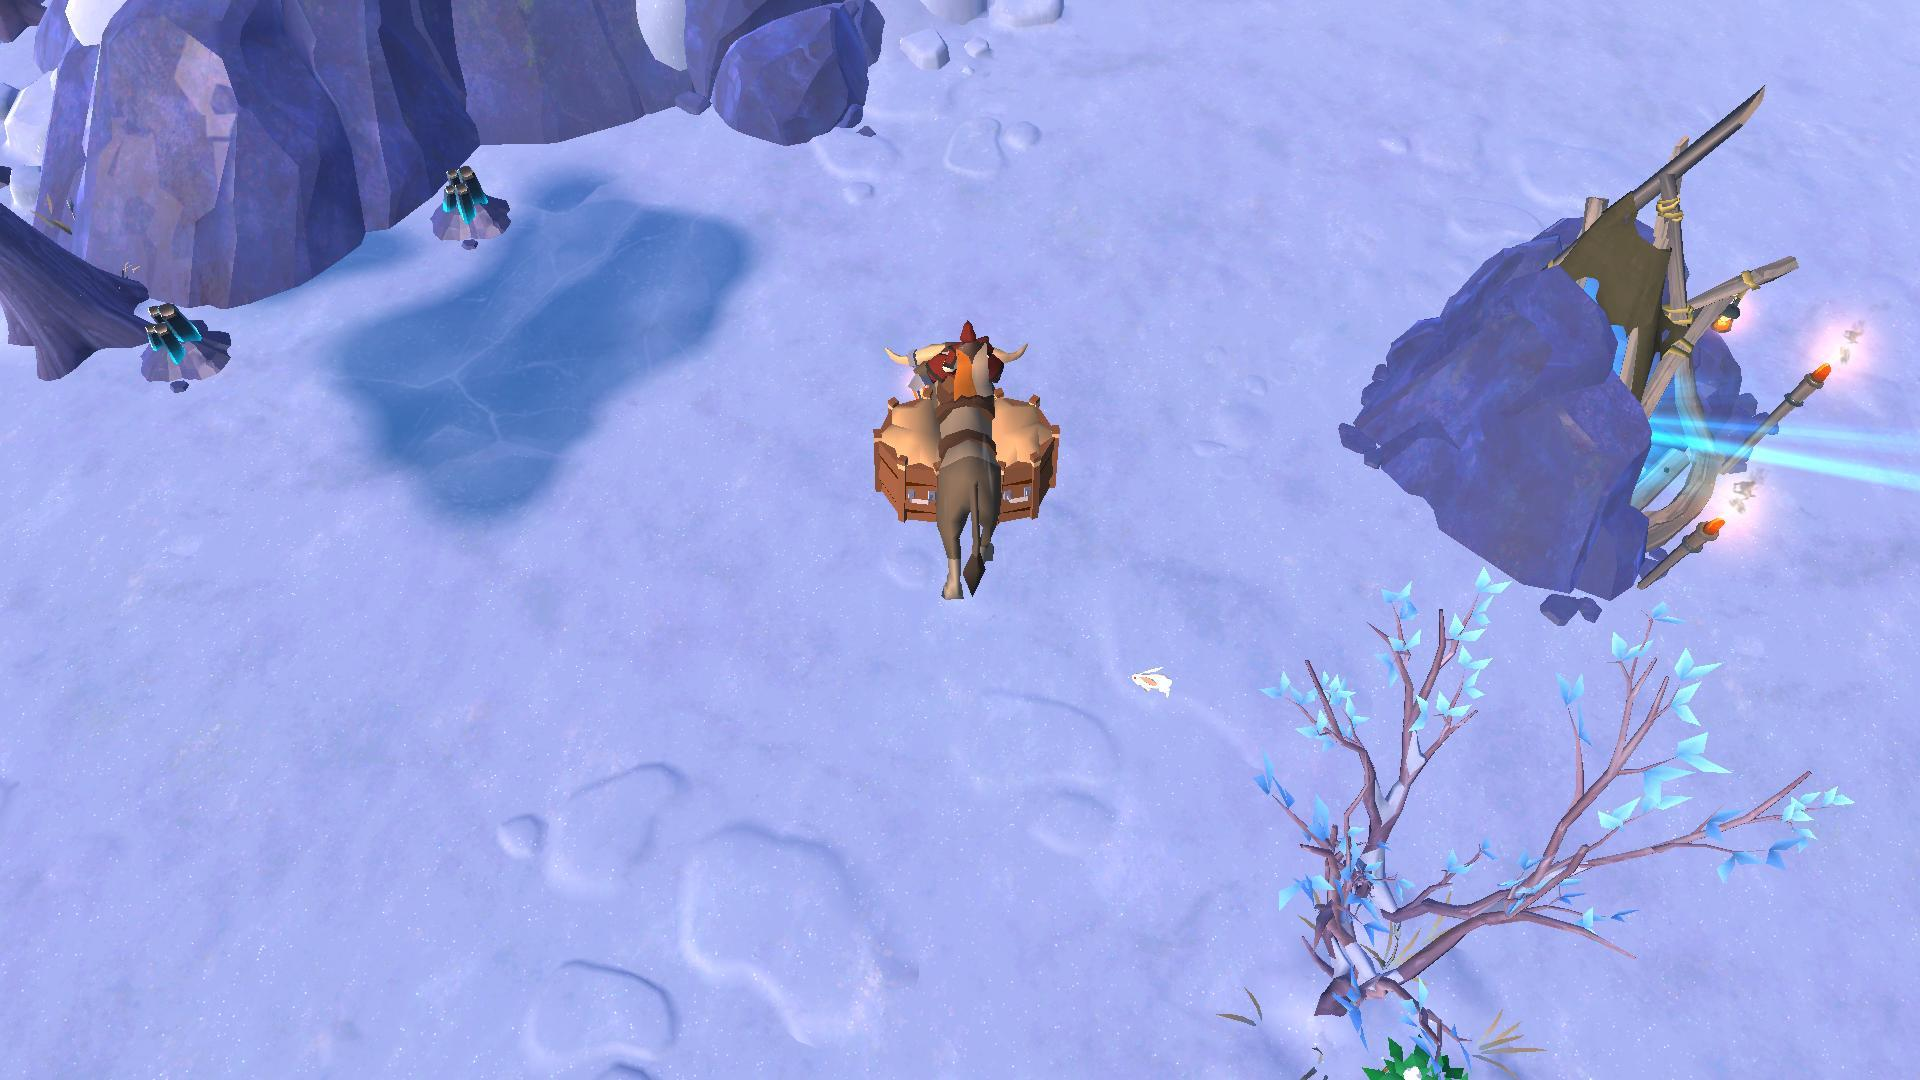ore_t4: (137, 294, 202, 372), (439, 156, 492, 225)
